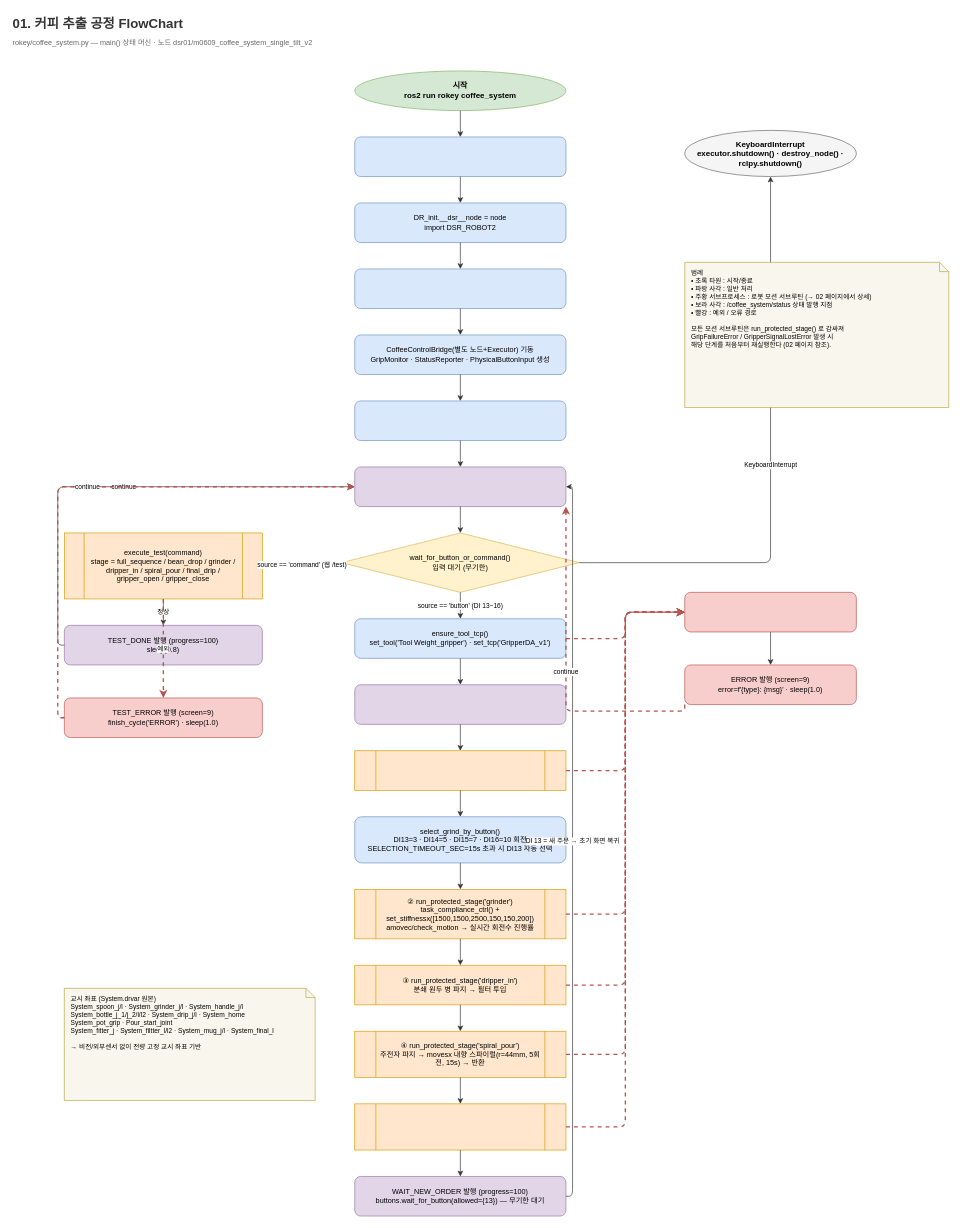
The diagram is 960 pixels wide and 1228 high, and some of its shapes have lost their labels. Here are the shapes that lost their labels. From the top down, the centre of each, then its label:
At point (460, 156): "rclpy.init() create_node(NODE_NAME, namespace='dsr01')".
At point (460, 288): "startup_probe: motion/move_joint wait_for_service() 루프 — DDS discovery 완료 대기".
At point (460, 420): "guarded_motion() 래핑 movej / movel / movec / movesx / amovel / move_periodic".
At point (460, 486): "TEST_READY 발행 (screen=1, progress=0) set_busy(False) · reset_order_state()".
At point (770, 612): "Exception 포착 finish_cycle('ERROR')".
At point (460, 704): "BEAN_SELECTED 발행 DI 13~16 → 원두 종류 확정 (screen=1, progress=3)".
At point (460, 770): "① run_protected_stage('bean_drop') 스푼 파지 → 원두 계량 → 그라인더 호퍼 투입".
At point (460, 1126): "⑤ run_protected_stage('final_drip') mug TCP 기준 J6 +45° 1회 기울임 → 저장 회전행렬로 복귀".
